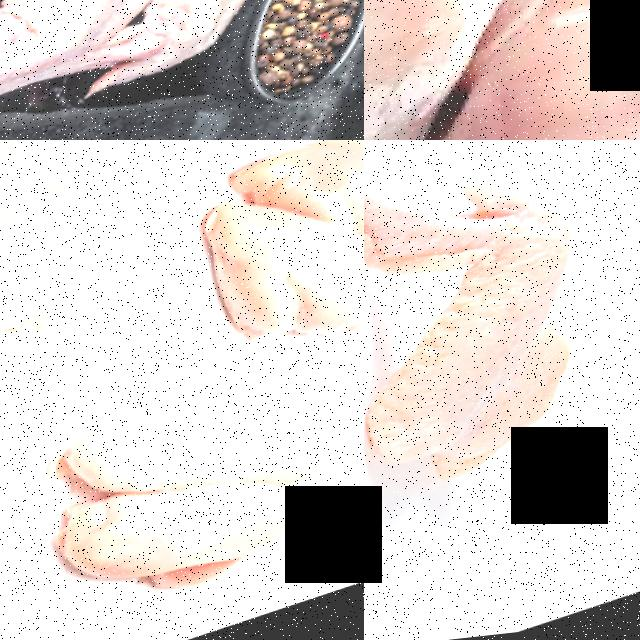chicken breast: (0, 345, 364, 640), (0, 140, 210, 432), (174, 140, 364, 398), (431, 0, 640, 140), (364, 0, 569, 140)
chicken wing: (364, 140, 640, 523), (0, 0, 357, 137)
